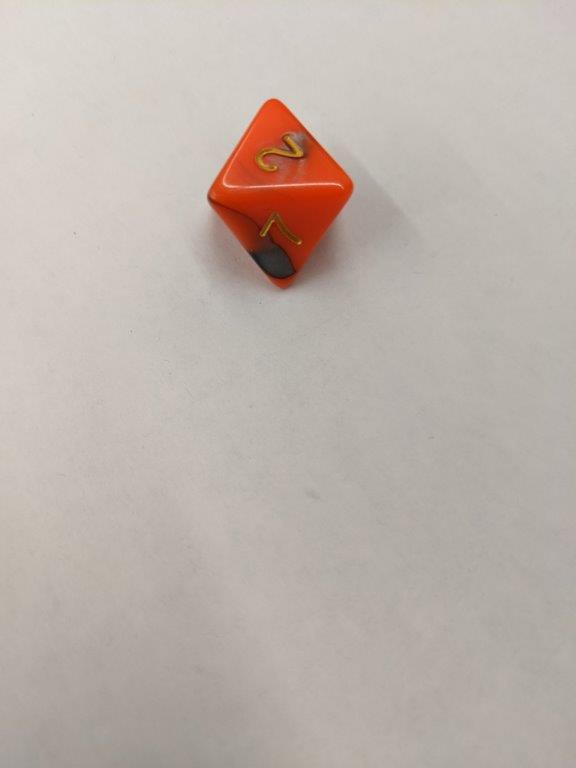d8-2: (204, 98, 356, 289)
